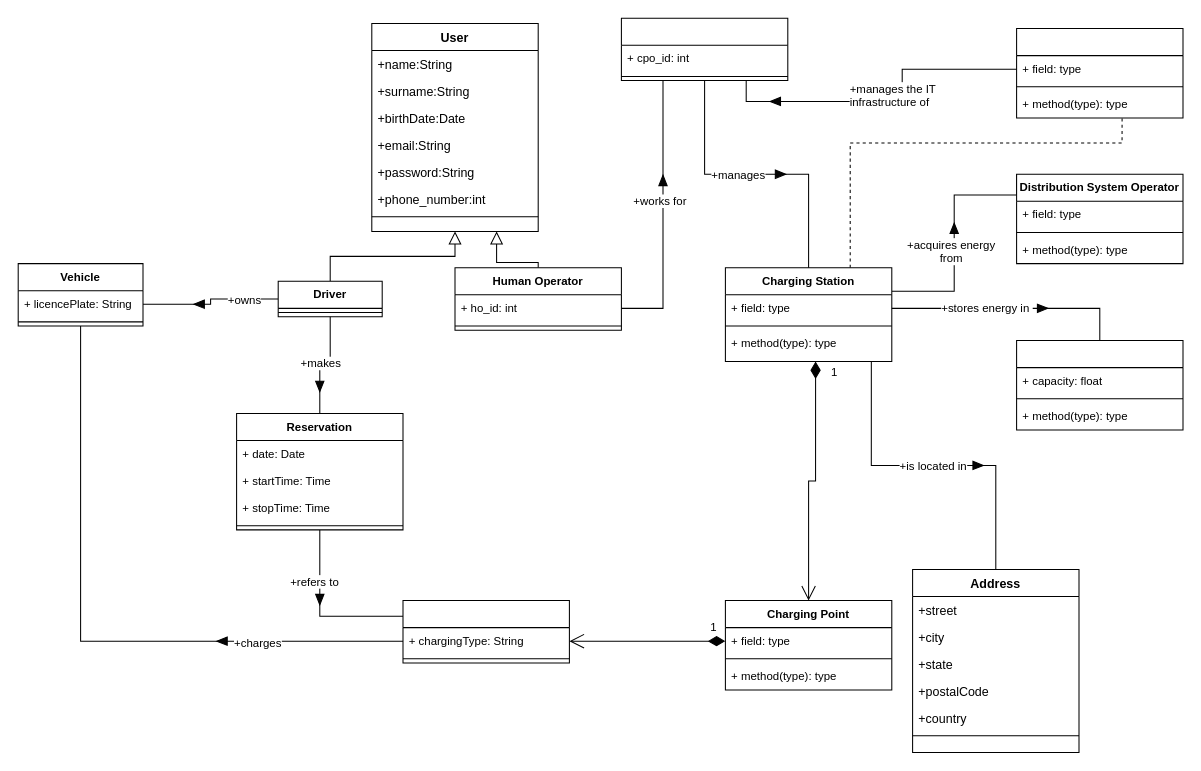
This 1201x771 diagram has some shape labels left out. The shapes that lost their labels are listed below. From the top down, each one's box as (x1, y1, x2, y2) in pixels, then its label:
(620, 17, 788, 81): Charging Point Operator
(1016, 28, 1183, 118): Charging Point MS
(1016, 340, 1183, 430): Battery
(402, 600, 569, 663): Charging Socket
